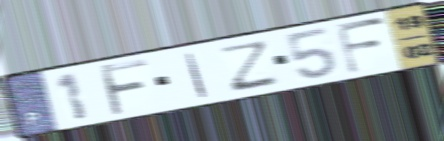1: (55, 70, 92, 121)
5: (283, 24, 341, 81)
F: (333, 15, 390, 76), (96, 57, 152, 118)
I: (183, 51, 211, 99)
Z: (220, 37, 280, 95)
